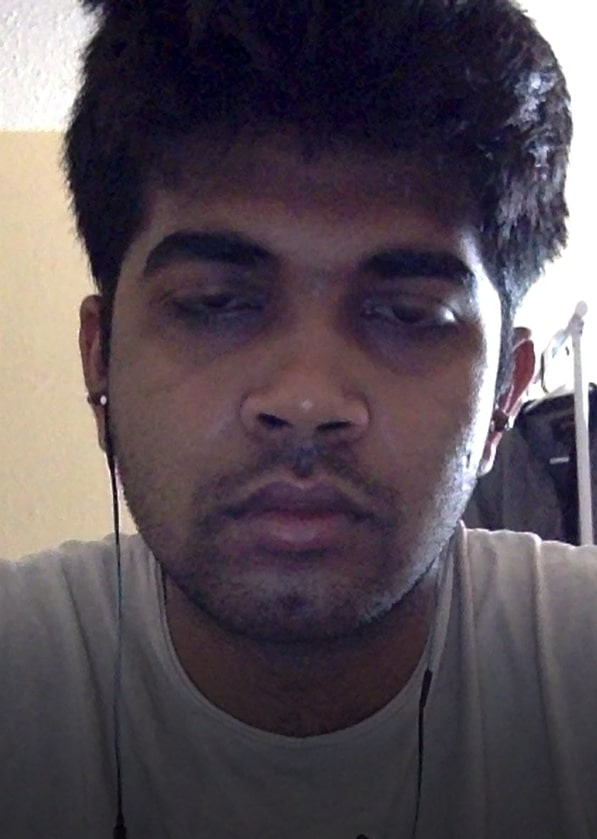Half Asleep: (141, 242, 480, 369)
